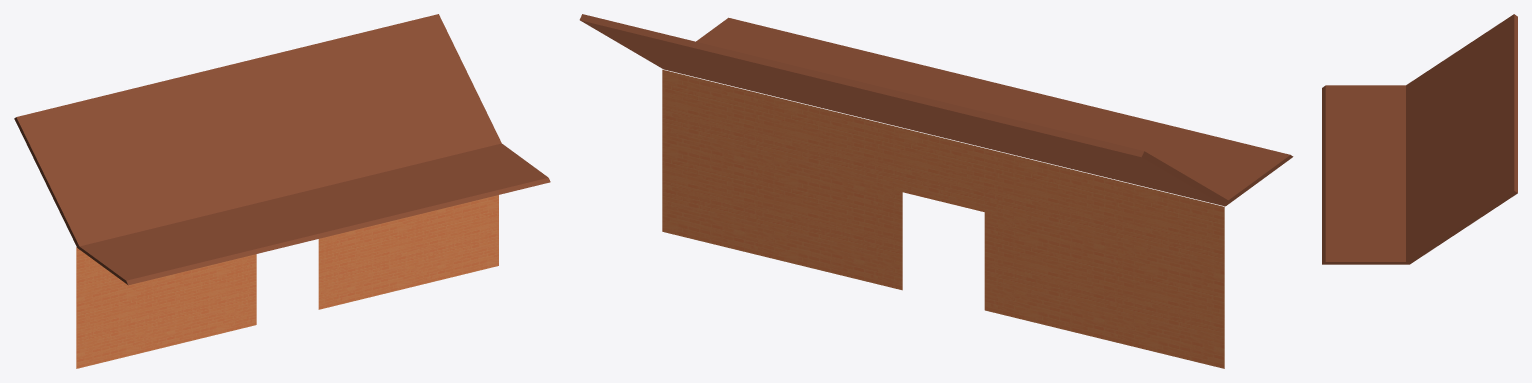
Rendered from update_map_new.fbx.
3 renders of one model, left to right at view 1: azimuth 30°, elevation 25°; view 2: azimuth 150°, elevation 25°; view 3: azimuth 270°, elevation 25°, orthographic. The views are drawn at different scales.
Visible parts, largest first — view 1: Cube.006, Plane; view 2: Plane, Cube.006; view 3: Cube.006.
Part boxes in pixels (bbox=[...]): Cube.006: bbox=[14, 14, 550, 285]; Plane: bbox=[76, 195, 498, 368]; Plane: bbox=[662, 69, 1224, 368]; Cube.006: bbox=[579, 14, 1293, 206]; Cube.006: bbox=[1322, 14, 1517, 264].
Size of the model in its own units: 4199 by 1973 by 1964.
